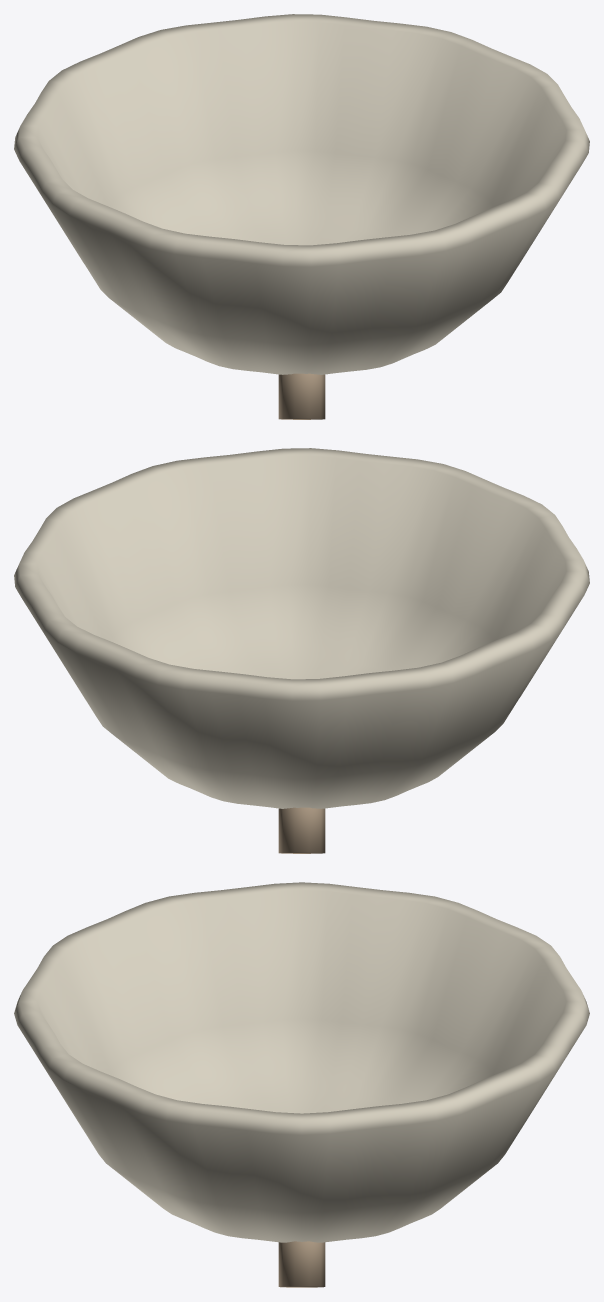
File: low_planter.glb
3 views of the same model, one above another, from view 1: azimuth 30°, elevation 25°; view 2: azimuth 150°, elevation 25°; view 3: azimuth 270°, elevation 25° (orthographic).
Parts seen in each view (by area): view 1: low_planter__body, low_planter__accent; view 2: low_planter__body, low_planter__accent; view 3: low_planter__body, low_planter__accent.
Part boxes in pixels (x1,y1,x2,y2): low_planter__body: (14,14,589,374); low_planter__accent: (278,373,325,419); low_planter__body: (14,448,589,808); low_planter__accent: (278,807,325,853); low_planter__body: (14,882,589,1242); low_planter__accent: (278,1241,325,1287).
Bounding box in the file's own units: 0.4453 × 0.1927 × 0.4453.
